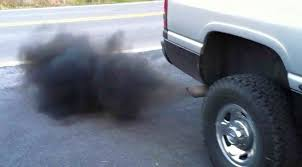smoke: (17, 28, 159, 127)
